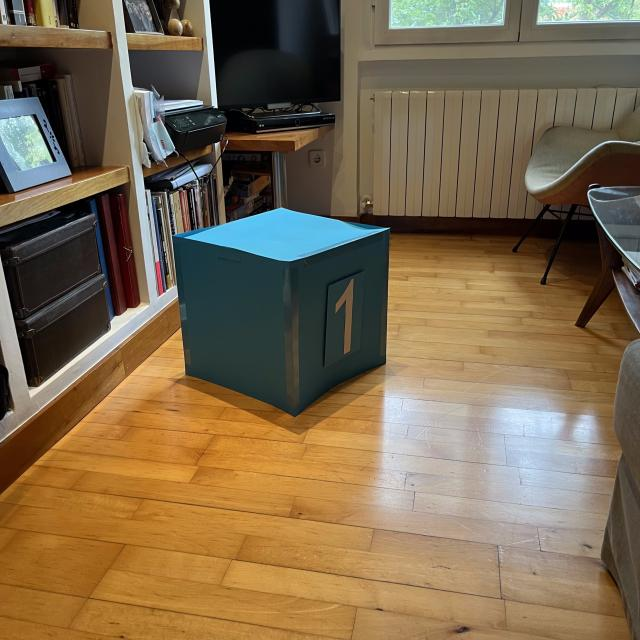box: (168, 203, 394, 418)
